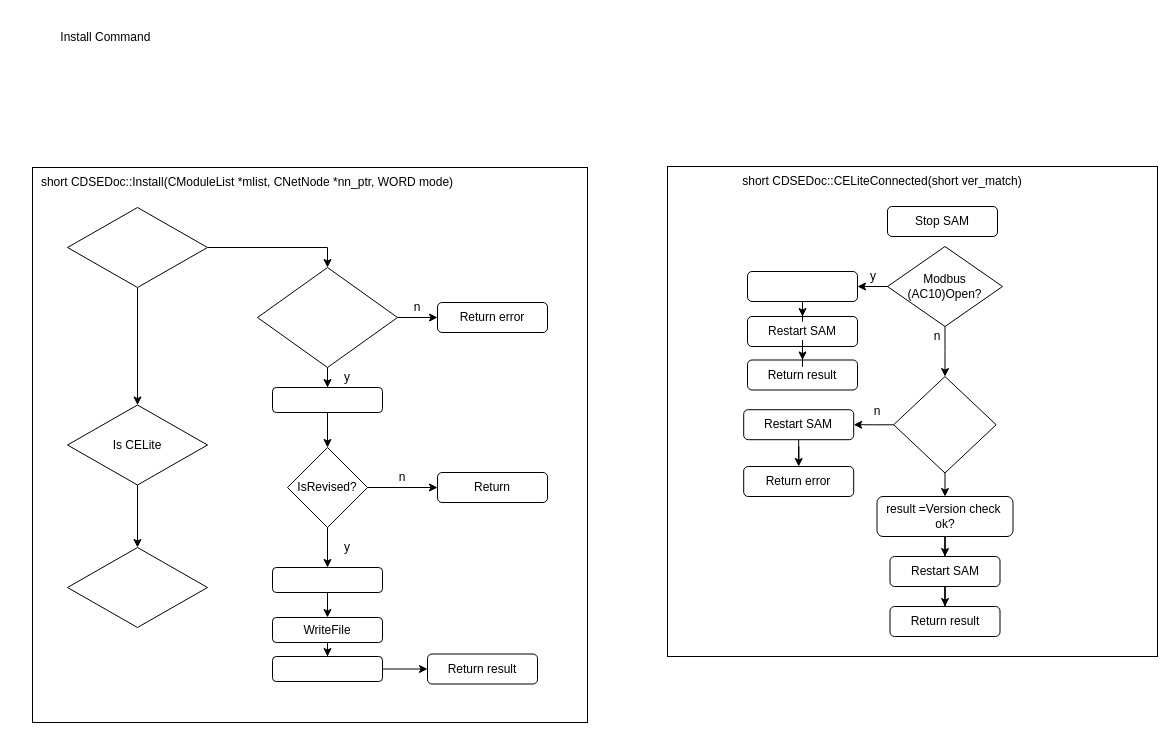
Image size: 1175x740. Some labels were removed from this diagram. Each missing label, with the centre of its shape:
"CELiteConnected() IsConnected?" belongs at (x=327, y=317).
"EIBisync can open?" belongs at (x=944, y=424).
"Install Tags" belongs at (x=327, y=579).
"Is AC10" belongs at (x=137, y=587).
"Is Websocket (AC15) ?" belongs at (x=137, y=247).
"OnModuleGetInfo" belongs at (x=327, y=669).
"result = AC10?" belongs at (x=802, y=286).
"Save Config" belongs at (x=327, y=399).
